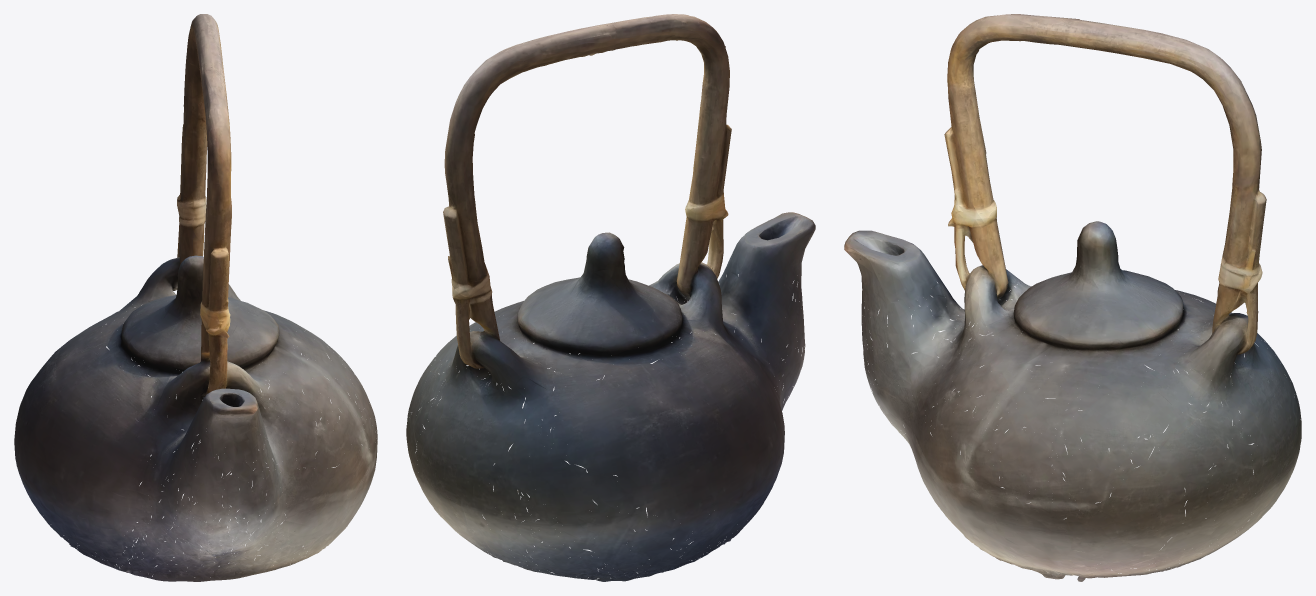
The model's file is sf-longpi-teapot.glb.
3 renders of one model, left to right at view 1: azimuth 30°, elevation 25°; view 2: azimuth 150°, elevation 25°; view 3: azimuth 270°, elevation 25°, orthographic. The views are drawn at different scales.
Visible parts, largest first — view 1: Model; view 2: Model; view 3: Model.
Part boxes in pixels (x1,y1,x2,y2): Model: (14,14,377,581); Model: (406,14,815,581); Model: (844,14,1301,581).
Size of the model in its own units: 0.1768 by 0.2599 by 0.2086.
Materials: 1 (1 with a texture image).
